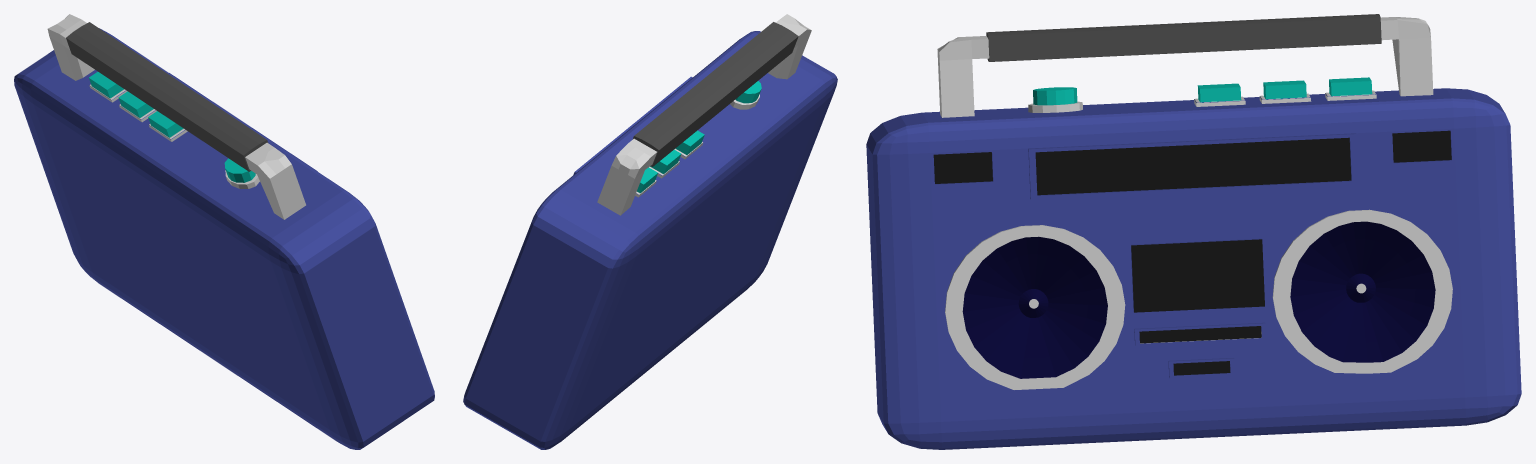
Rendered from Stereo.gltf.
The picture shows the model from 3 angles, left to right: view 1: azimuth 30°, elevation 25°; view 2: azimuth 150°, elevation 25°; view 3: azimuth 270°, elevation 25°; orthographic projection. The views are drawn at different scales.
Parts seen in each view (by area): view 1: MusicBox; view 2: MusicBox; view 3: MusicBox.
Part boxes in pixels (box(x1,y1,x2,y2)): MusicBox: box(14, 14, 434, 449); MusicBox: box(463, 14, 837, 449); MusicBox: box(866, 14, 1521, 449).
Size of the model in its own units: 1.15 by 1.85 by 2.9.
